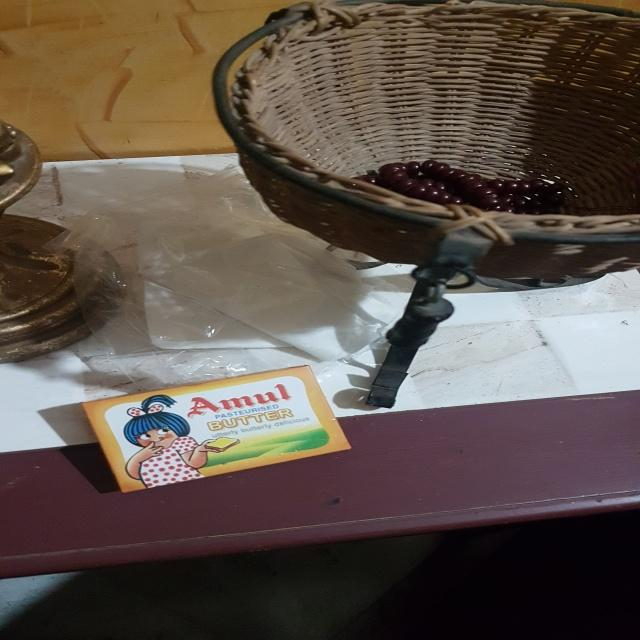butter: (83, 363, 354, 493)
